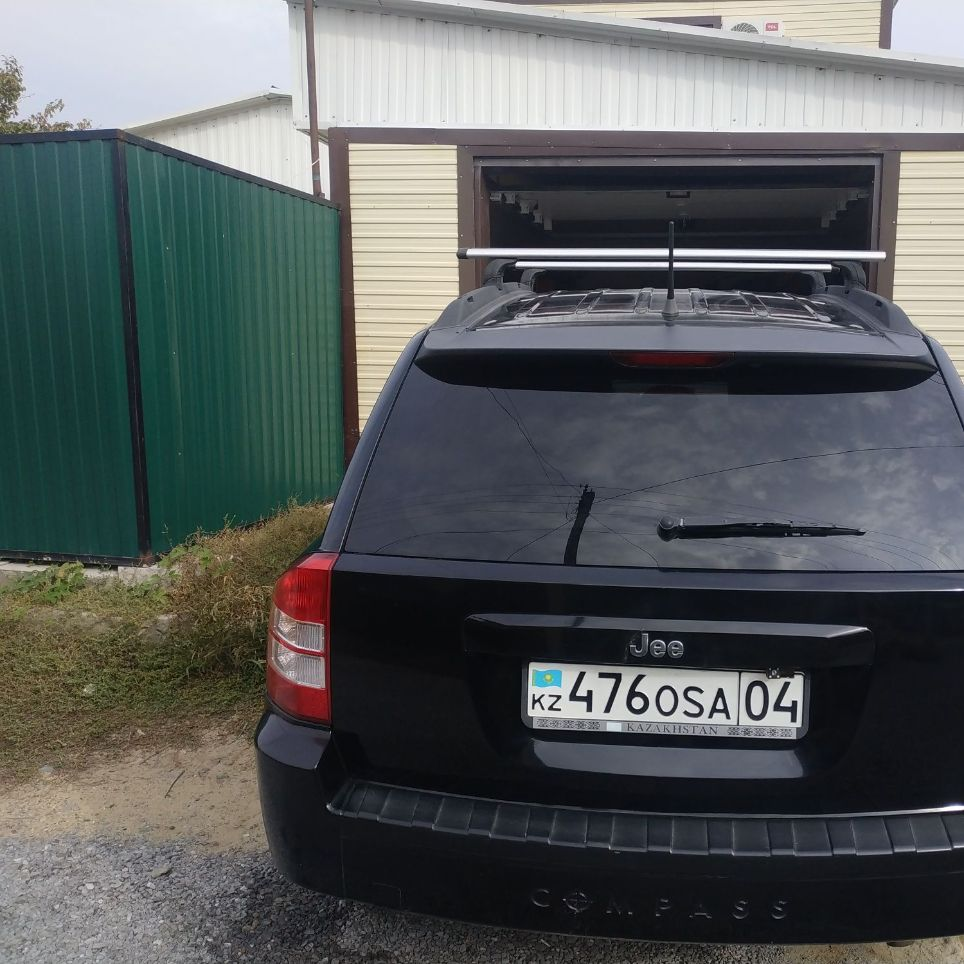license plate: (523, 664, 807, 741)
truck: (304, 277, 963, 936)
